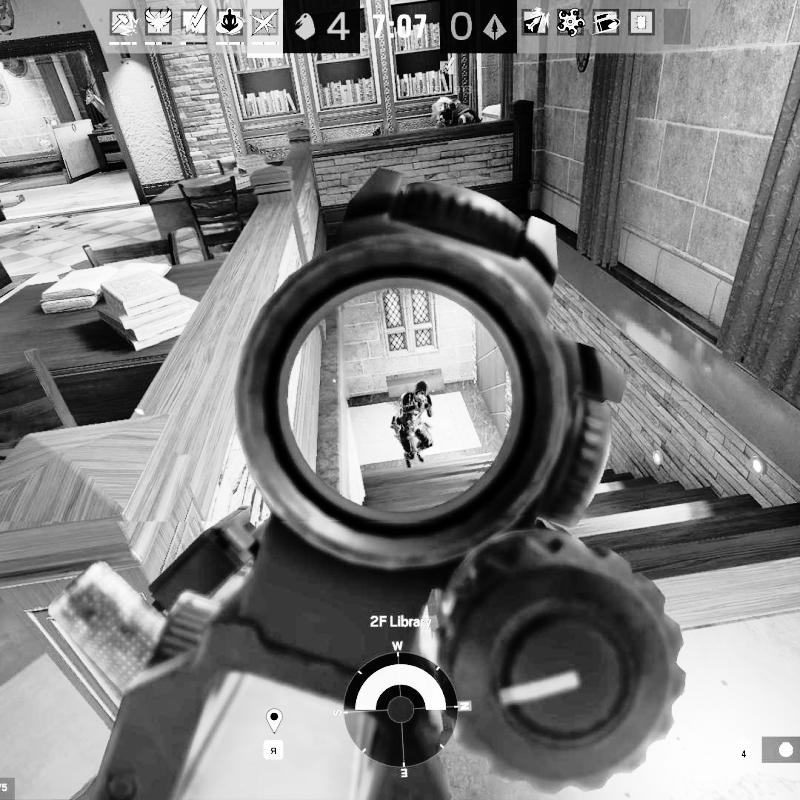Character: (388, 377, 437, 471), (427, 94, 483, 126)
Friend_label: (422, 58, 473, 94)
Head: (432, 97, 457, 124), (413, 379, 429, 401)
